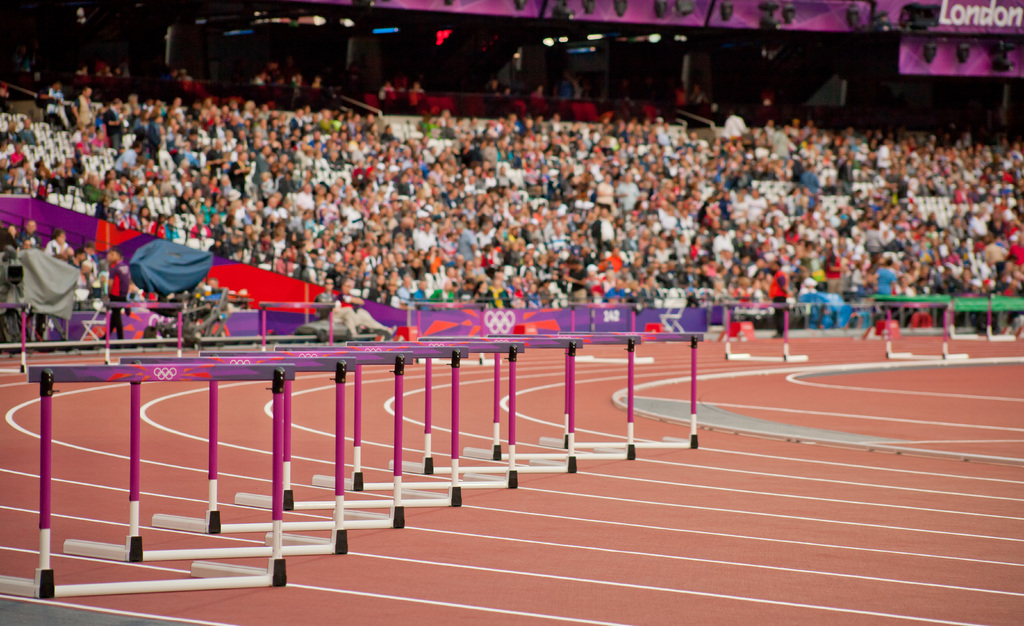Person: (0, 39, 1024, 330)
